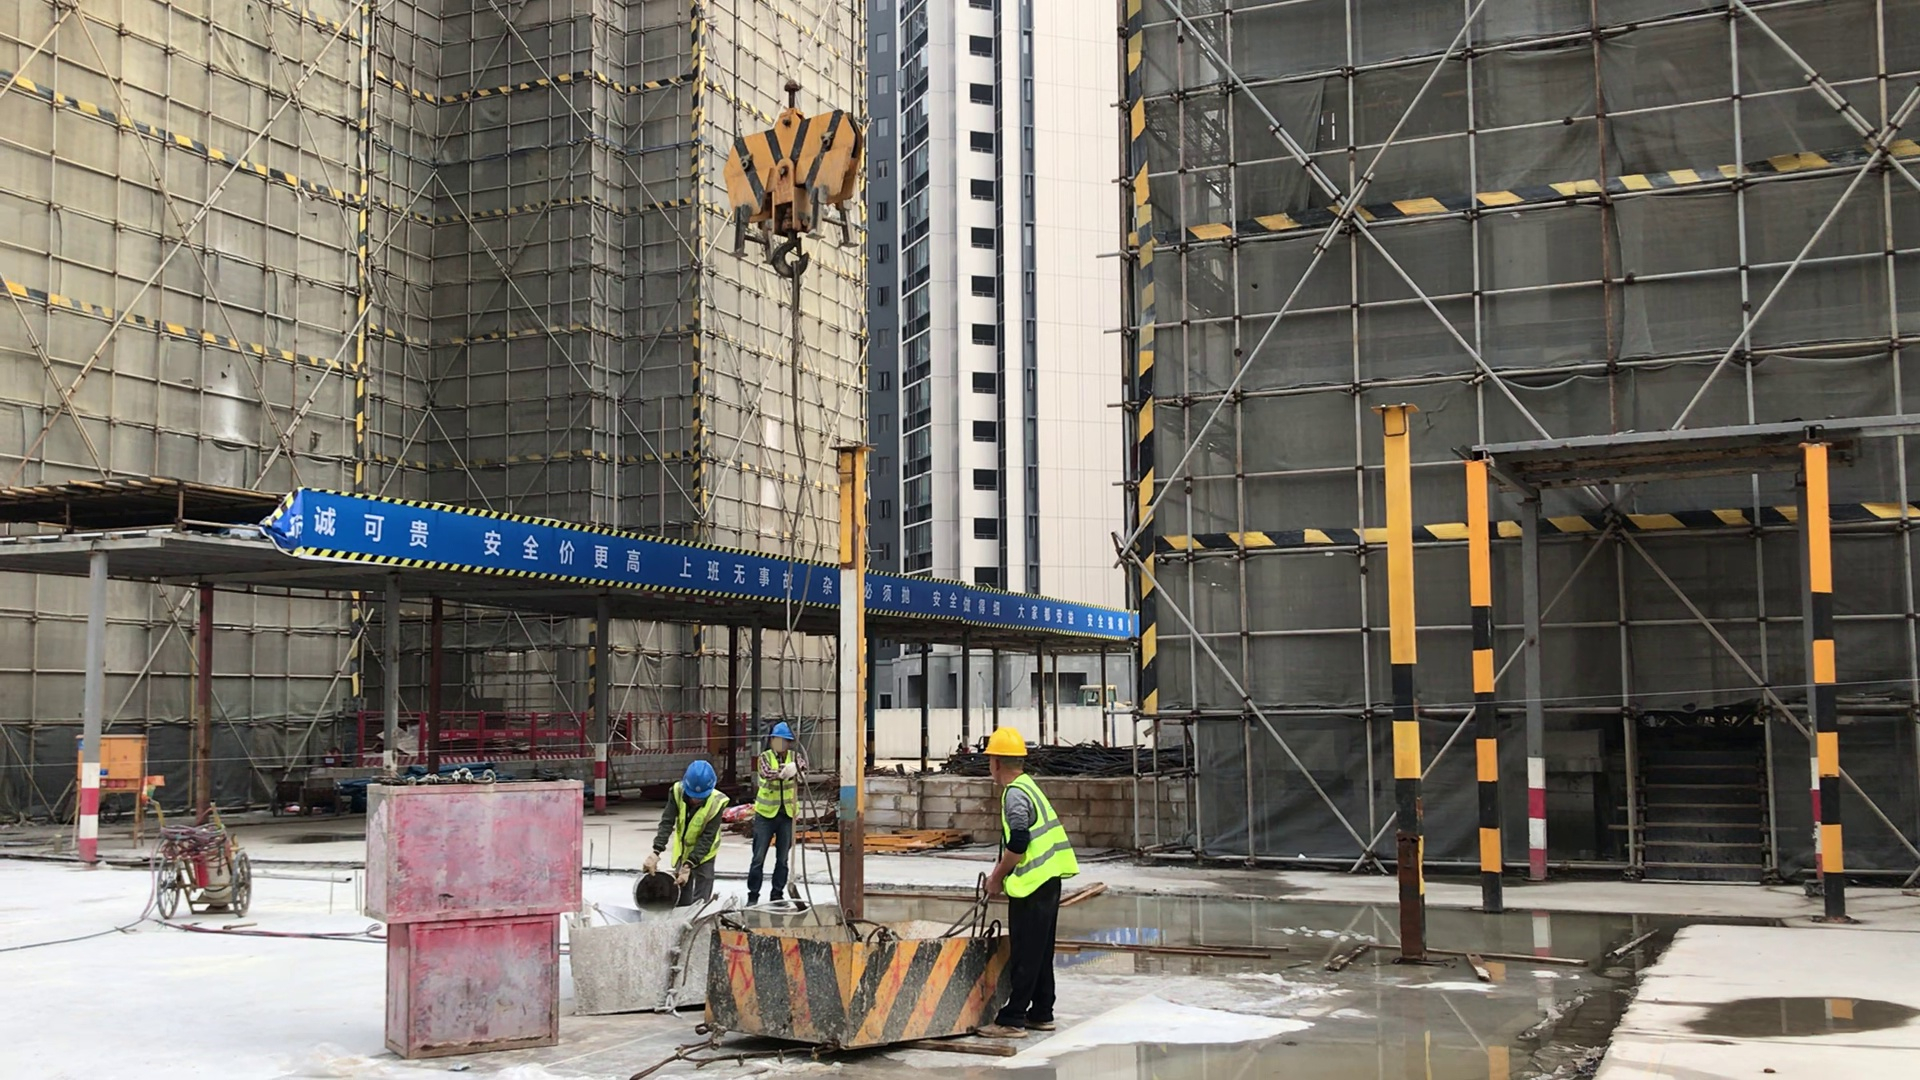ebox: (64, 722, 163, 800)
fence: (332, 700, 736, 774)
handcart: (149, 816, 258, 916)
helmet: (674, 750, 719, 791), (974, 726, 1028, 757), (770, 722, 800, 735)
hook: (700, 67, 862, 289)
hopper: (663, 911, 1015, 1053), (559, 898, 726, 1020)
person: (966, 720, 1078, 1034), (663, 745, 736, 942), (745, 705, 808, 913)
slogan: (249, 454, 1151, 665)
vest: (992, 787, 1062, 891), (670, 791, 725, 871), (756, 748, 803, 816)
